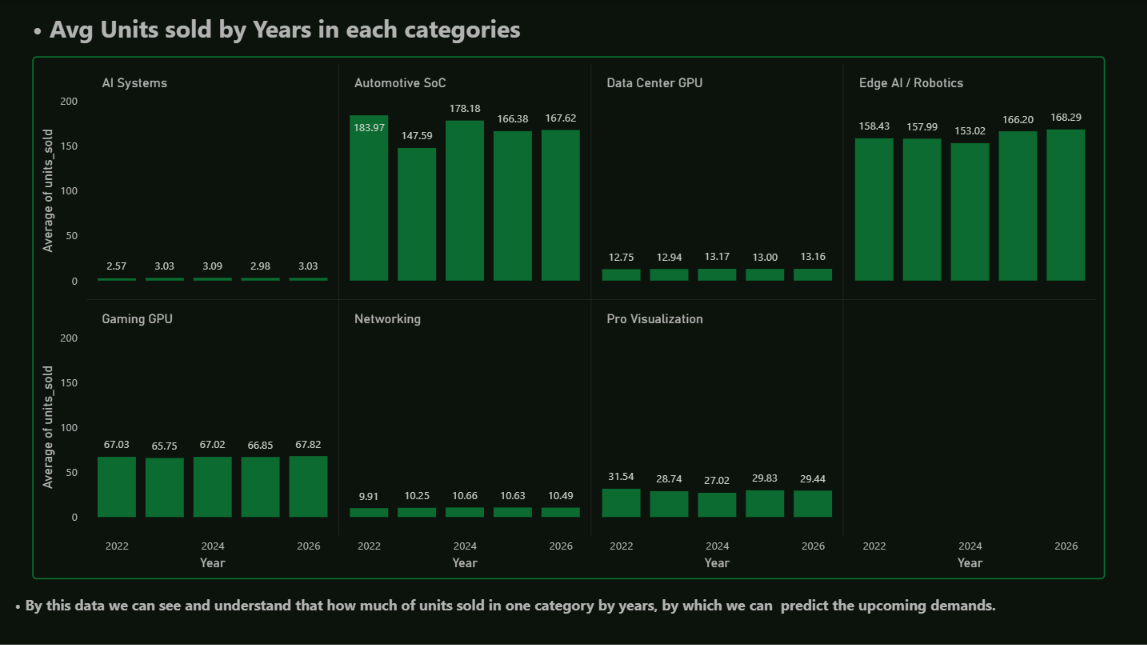

The page's visual inventory and layout, read from the dashboard file:
{"tool":"powerbi","page":{"name":"Unit sold in each catg.","canvas":[1280,720],"ordinal":1},"visuals":[{"type":"columnChart","title":"Avg Units Sold by Year","fields":{"Category":["nvidia_sales.order_date.Variation.Date Hierarchy.Year"],"Y":["Avg(nvidia_sales.units_sold)"],"Rows":["nvidia_sales.product_category"]},"box":[37.2,64,1194.2,582.6],"z":0},{"type":"textbox","box":[11.6,9.3,651.2,46.5],"z":1000},{"type":"textbox","box":[0,657.9,1280.2,46.8],"z":2000}]}

Visuals, with their boxes in screenshot pixels (x1, y1, x2, y2), scaled from the page's 1280x720 canvas onto the 1147x645 screenshot:
"Avg Units Sold by Year" columnChart: <bbox>33, 57, 1103, 579</bbox>
textbox: <bbox>10, 8, 594, 50</bbox>
textbox: <bbox>0, 589, 1146, 631</bbox>
